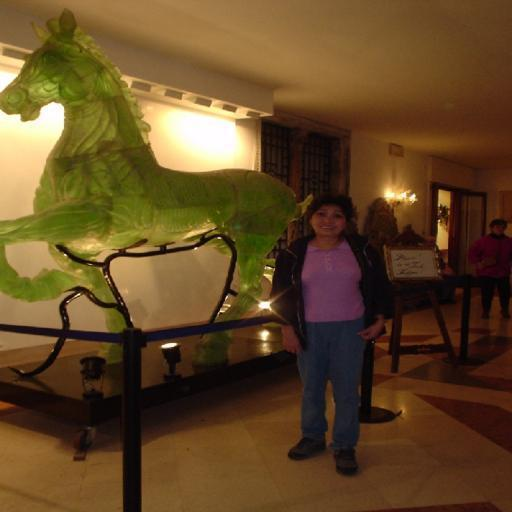horse: (0, 8, 317, 368)
